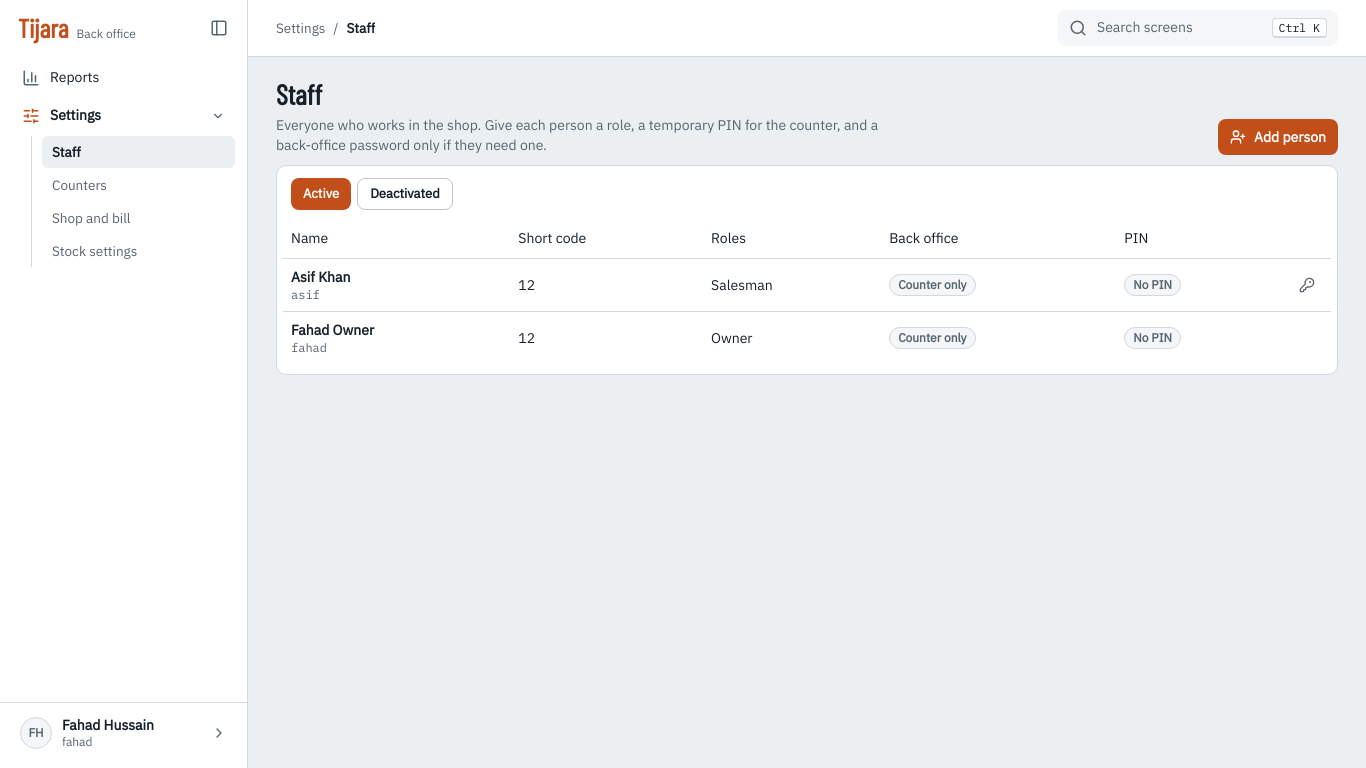
Scenario: Staff › lists active people with role, back-office access and PIN state; deactivated ones under their filter
Expected: the text "Salesman" is shown, [703,258,881,311]
Expected: the text "Counter only" in the row of "Asif Khan" is shown, [898,277,967,292]
Click the button "Deactivated": point(405, 194) [357,178,453,210]
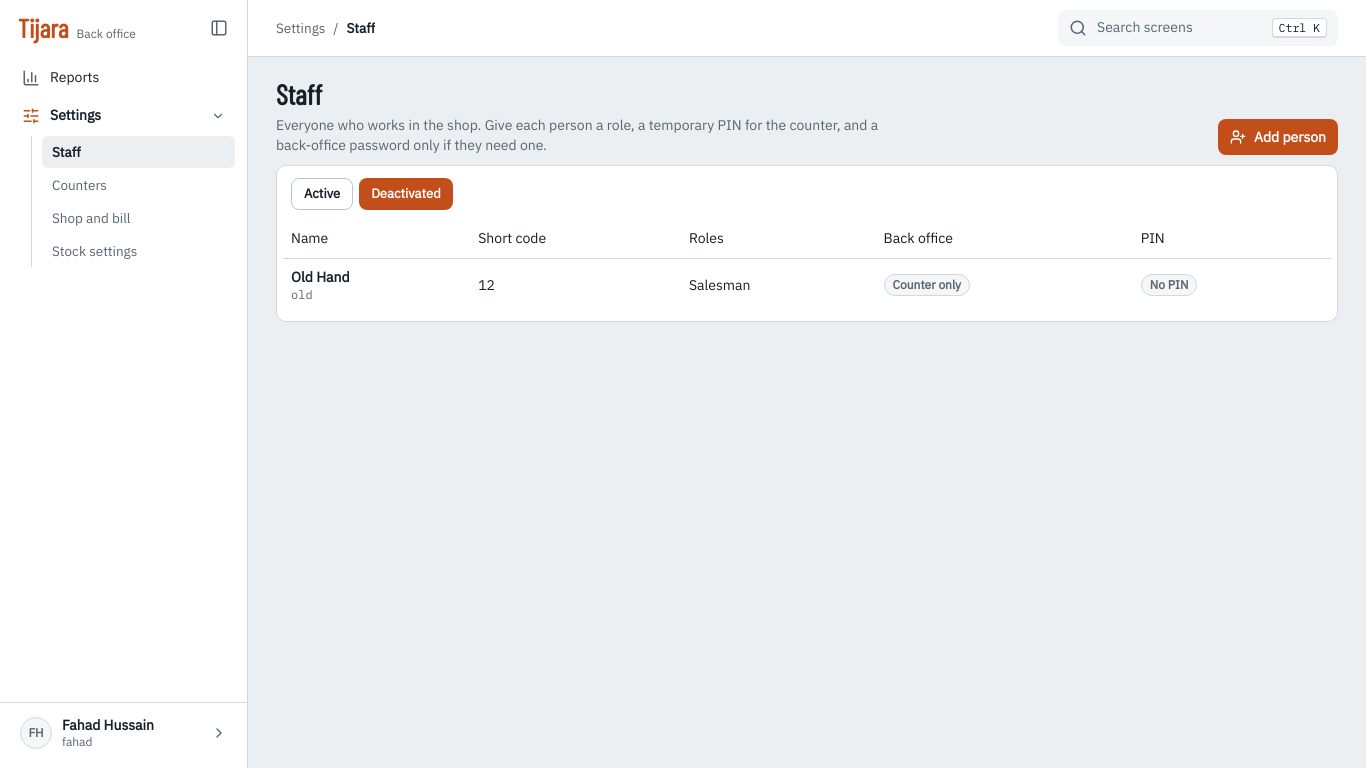
Now the link "Old Hand" is shown, box [291,268,350,286]
